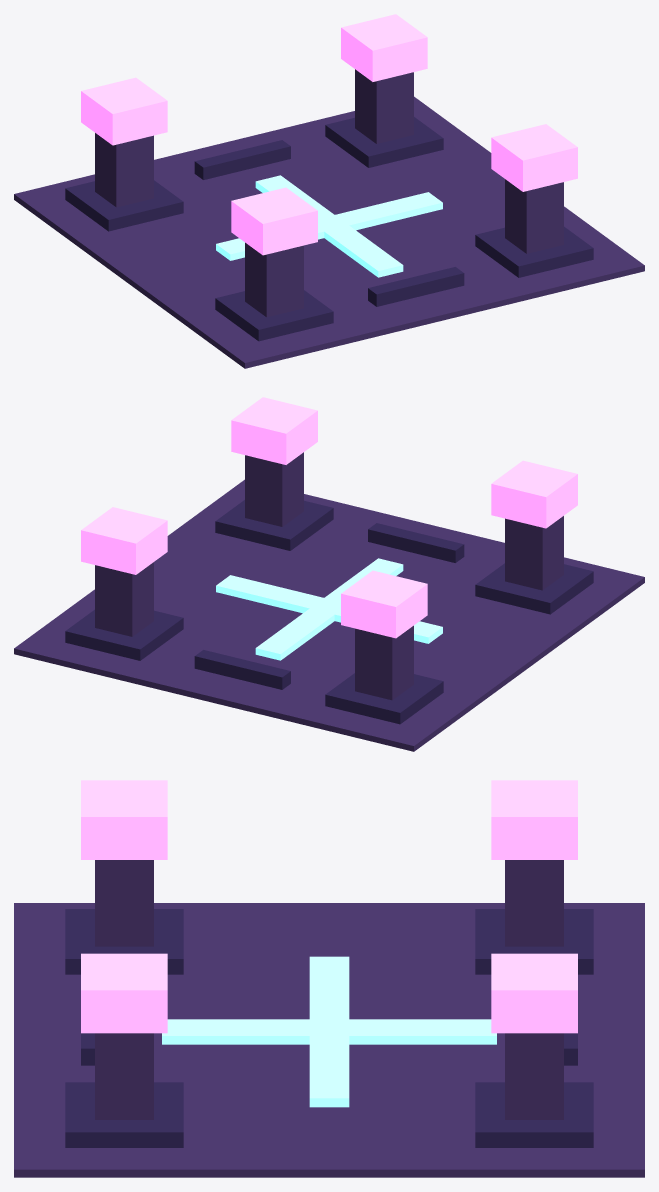
The model's file is 01_pocket_park_plaza.glb.
The picture shows the model from 3 angles, top to bottom: view 1: azimuth 30°, elevation 25°; view 2: azimuth 150°, elevation 25°; view 3: azimuth 270°, elevation 25°; orthographic projection. The views are drawn at different scales.
Parts seen in each view (by area): view 1: base_plaza_0, tree_crown_6, tree_crown_3, tree_crown_9, tree_crown_12, tree_trunk_2, tree_trunk_8, tree_trunk_5, tree_trunk_11, planter_7, planter_4, planter_1 (+5 smaller); view 2: base_plaza_0, tree_crown_3, tree_crown_6, tree_crown_12, tree_crown_9, tree_trunk_5, tree_trunk_11, tree_trunk_2, tree_trunk_8, planter_10, planter_1, planter_4 (+5 smaller); view 3: base_plaza_0, neon_strip_z_14, tree_crown_9, tree_crown_12, tree_crown_3, tree_crown_6, neon_strip_x_13, planter_7, planter_10, tree_trunk_2, tree_trunk_5, tree_trunk_8 (+3 smaller).
Part boxes in pixels (<box>): base_plaza_0: <box>14,96,644,368</box>; tree_crown_6: <box>231,187,317,255</box>; tree_crown_3: <box>81,77,167,145</box>; tree_crown_9: <box>341,14,427,81</box>; tree_crown_12: <box>491,124,577,191</box>; tree_trunk_2: <box>95,133,153,207</box>; tree_trunk_8: <box>355,69,413,143</box>; tree_trunk_5: <box>245,242,303,317</box>; tree_trunk_11: <box>505,179,563,253</box>; planter_7: <box>325,117,443,167</box>; planter_4: <box>215,290,333,341</box>; planter_1: <box>65,180,183,231</box>; base_plaza_0: <box>14,479,644,751</box>; tree_crown_3: <box>341,570,427,638</box>; tree_crown_6: <box>491,460,577,528</box>; tree_crown_12: <box>231,397,317,464</box>; tree_crown_9: <box>81,507,167,574</box>; tree_trunk_5: <box>505,516,563,590</box>; tree_trunk_11: <box>245,452,303,526</box>; tree_trunk_2: <box>355,625,413,700</box>; tree_trunk_8: <box>95,562,153,636</box>; planter_10: <box>215,500,333,550</box>; planter_1: <box>325,673,443,724</box>; planter_4: <box>475,563,593,614</box>; base_plaza_0: <box>14,903,644,1177</box>; neon_strip_z_14: <box>162,1019,496,1044</box>; tree_crown_9: <box>491,953,577,1033</box>; tree_crown_12: <box>81,953,167,1033</box>; tree_crown_3: <box>491,780,577,859</box>; tree_crown_6: <box>81,780,167,859</box>; neon_strip_x_13: <box>309,956,349,1107</box>; planter_7: <box>475,1082,593,1147</box>; planter_10: <box>65,1082,183,1147</box>; tree_trunk_2: <box>505,860,563,946</box>; tree_trunk_5: <box>95,860,153,946</box>; tree_trunk_8: <box>505,1033,563,1119</box>.
Size of the model in its own units: 16 by 4.45 by 16.
